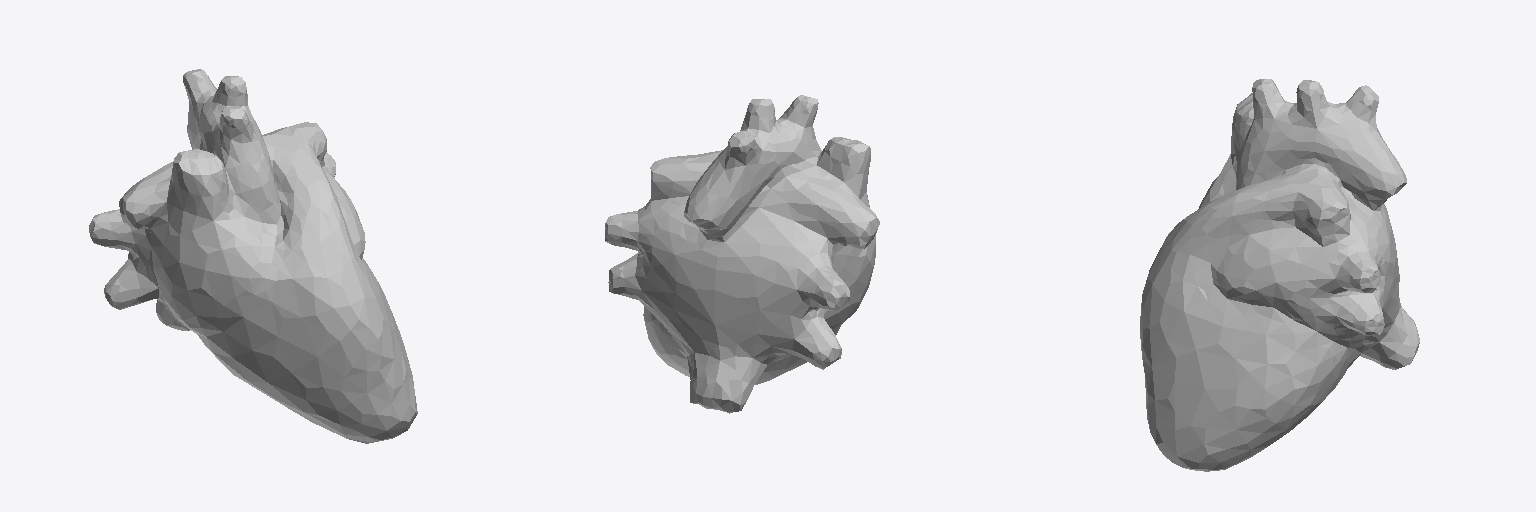
Rendered from heart.obj.
The picture shows the model from 3 angles: view 1: azimuth 30°, elevation 25°; view 2: azimuth 150°, elevation 25°; view 3: azimuth 270°, elevation 25°; orthographic projection.
Visible parts, largest first — view 1: coeur_Default.003; view 2: coeur_Default.003; view 3: coeur_Default.003.
Part boxes in pixels (x1,y1,x2,y2): coeur_Default.003: (89, 69, 417, 443); coeur_Default.003: (605, 95, 879, 413); coeur_Default.003: (1140, 79, 1419, 471).
Bounding box in the file's own units: 0.0856 × 0.1119 × 0.0839.